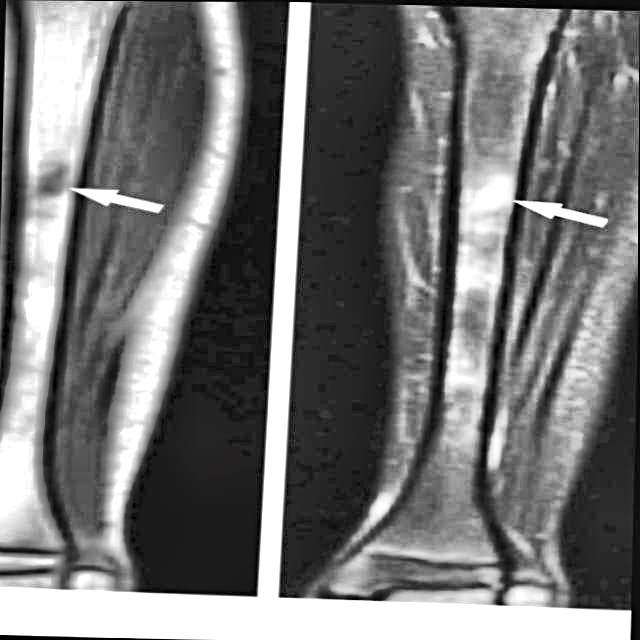Oblique Displaced: (19, 150, 76, 208), (461, 172, 517, 215)
